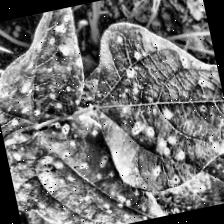Bean Rust: (91, 10, 224, 191), (2, 100, 190, 224), (0, 5, 101, 143), (134, 130, 224, 218), (1, 119, 73, 224)
